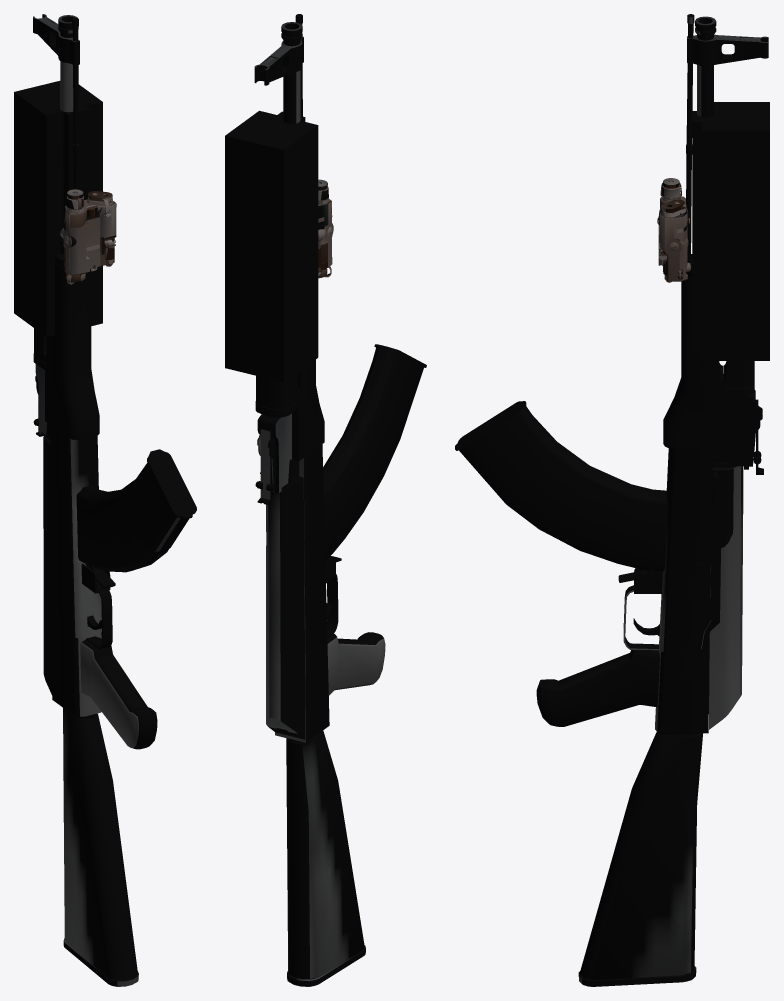
File: AK47__Handguard_AK_Quad__Laser_Rifle.fbx
The picture shows the model from 3 angles, left to right: view 1: azimuth 30°, elevation 25°; view 2: azimuth 150°, elevation 25°; view 3: azimuth 270°, elevation 25°; orthographic projection. The views are drawn at different scales.
Visible parts, largest first — view 1: asset_AK47.001; view 2: asset_AK47.001; view 3: asset_AK47.001.
Boxes of the visible parts, x1=… form: asset_AK47.001: x1=14, y1=14, x2=196, y2=986; asset_AK47.001: x1=225, y1=14, x2=426, y2=986; asset_AK47.001: x1=455, y1=14, x2=769, y2=986.
Size of the model in its own units: 0.0336 by 0.528 by 0.1561.
